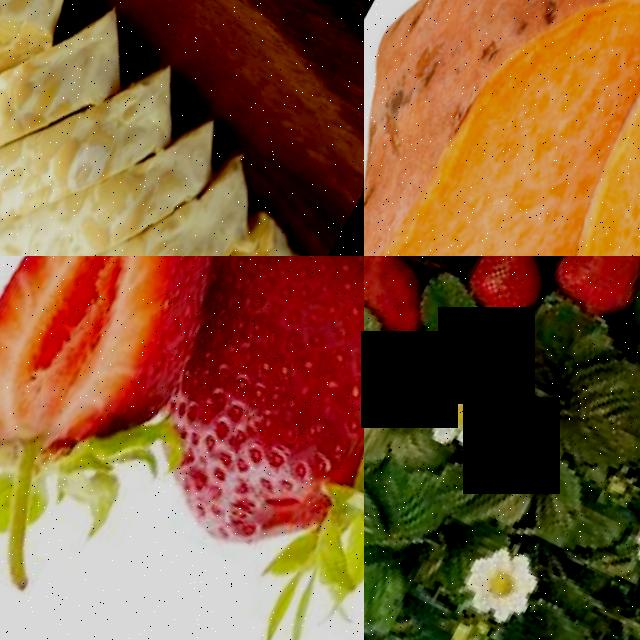strawberry: (112, 256, 364, 599), (0, 256, 270, 501), (457, 256, 569, 323), (539, 256, 640, 326), (364, 256, 438, 319)
sweet potato: (364, 0, 640, 256), (497, 0, 640, 256)
tempeh: (0, 0, 364, 256)
